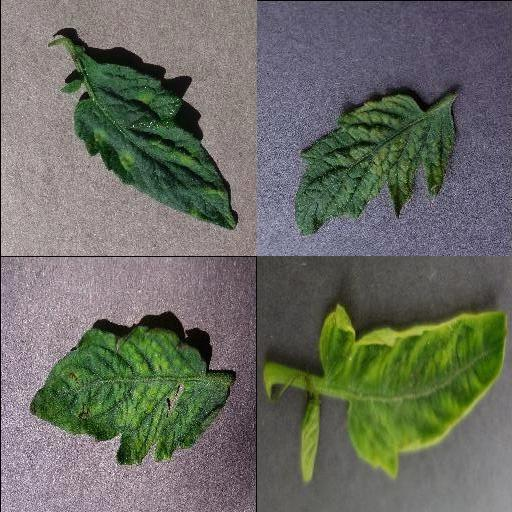Leaf Mold: (73, 63, 237, 230)
Mosaic Virus: (26, 323, 230, 467), (293, 90, 455, 234)
Yellow Leaf Curl Virus: (321, 305, 507, 483)
